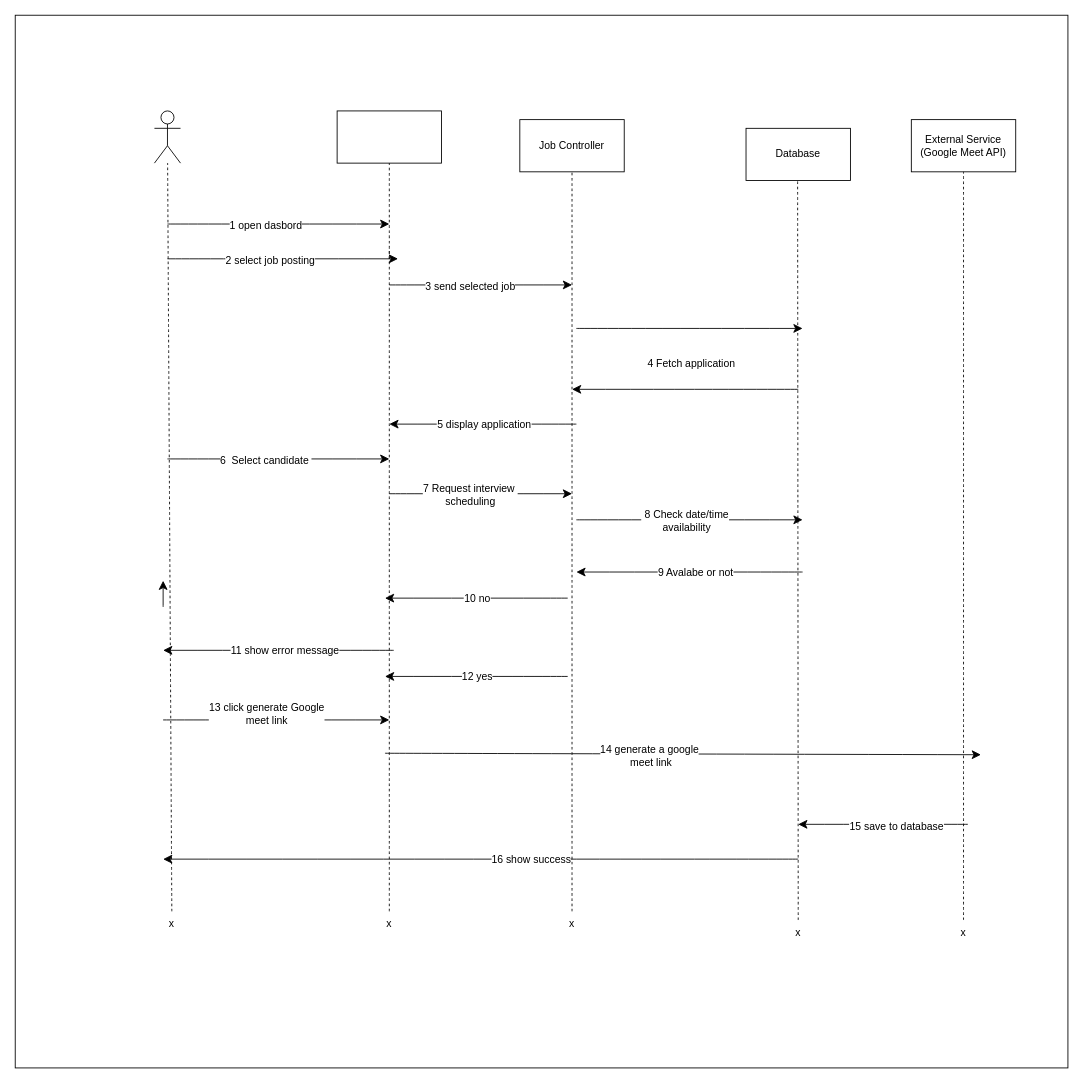
Image size: 1083x1083. Some labels were removed from this diagram. Here are the shapes that lost their labels. From the top down, the centre of each, then its label:
At (x=167, y=136): "Employer".
At (x=389, y=136): "Employer Dashboard (UI)".
